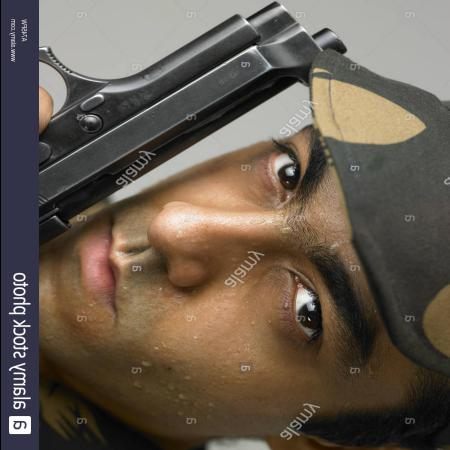Pistol: (37, 2, 342, 250)
